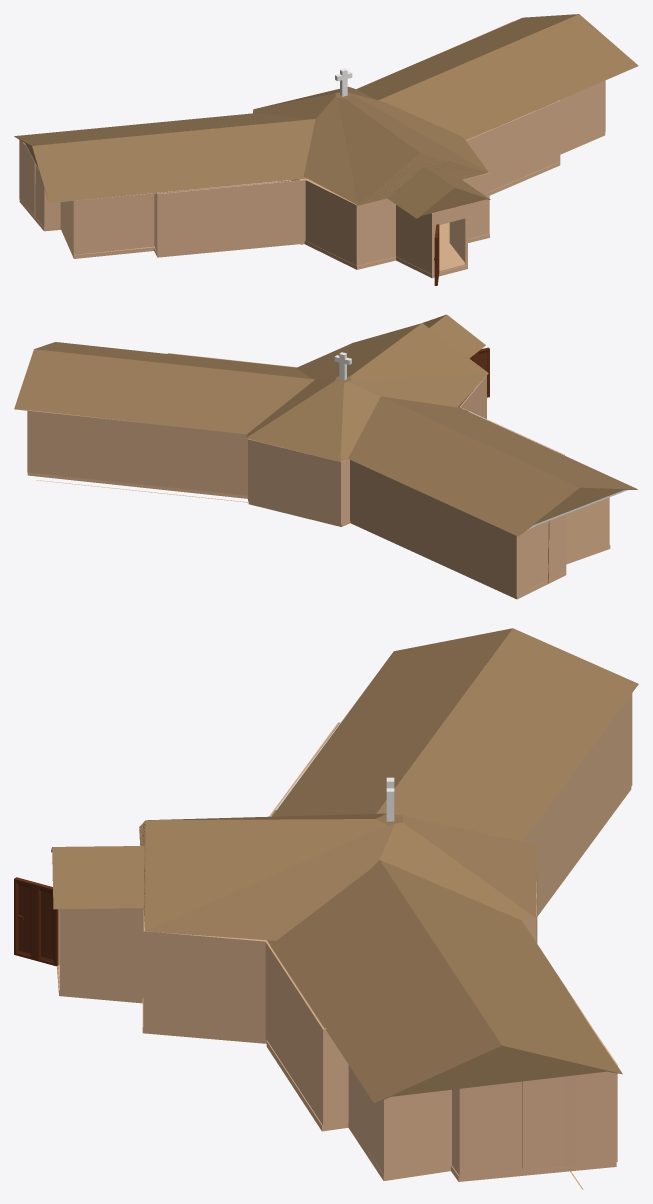
Rendered from building.glb.
3 views of the same model, one above another, from view 1: azimuth 30°, elevation 25°; view 2: azimuth 150°, elevation 25°; view 3: azimuth 270°, elevation 25° (orthographic). The views are drawn at different scales.
Visible parts, largest first — view 1: building, roof-right, roof-left, Top-roof, roof-small-front; view 2: building, roof-right, roof-left, Top-roof, roof-small-front; view 3: building, roof-left, roof-right, Top-roof, roof-small-front, Door.003.
Boxes of the visible parts, bbox=[...] form: building: bbox=[19, 21, 605, 278]; roof-right: bbox=[14, 113, 315, 202]; roof-left: bbox=[356, 14, 638, 140]; Top-roof: bbox=[253, 86, 488, 205]; roof-small-front: bbox=[387, 166, 490, 218]; building: bbox=[27, 343, 610, 599]; roof-right: bbox=[348, 396, 637, 536]; roof-left: bbox=[14, 342, 314, 434]; Top-roof: bbox=[246, 323, 488, 461]; roof-small-front: bbox=[422, 314, 485, 358]; building: bbox=[57, 693, 632, 1189]; roof-left: bbox=[267, 860, 622, 1103]; roof-right: bbox=[272, 628, 638, 841]; Top-roof: bbox=[139, 813, 537, 940]; roof-small-front: bbox=[51, 846, 144, 909]; Door.003: bbox=[14, 877, 58, 966].
Bounding box in the file's own units: 61.17 × 14.03 × 35.82.
